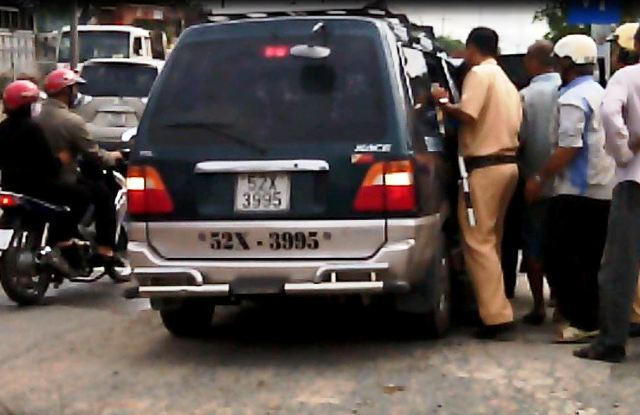police: (418, 24, 540, 344)
